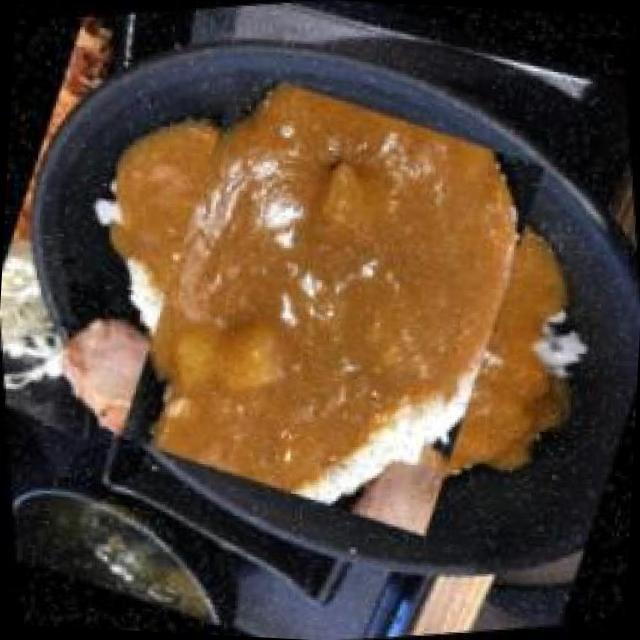curry: (61, 30, 602, 571)
